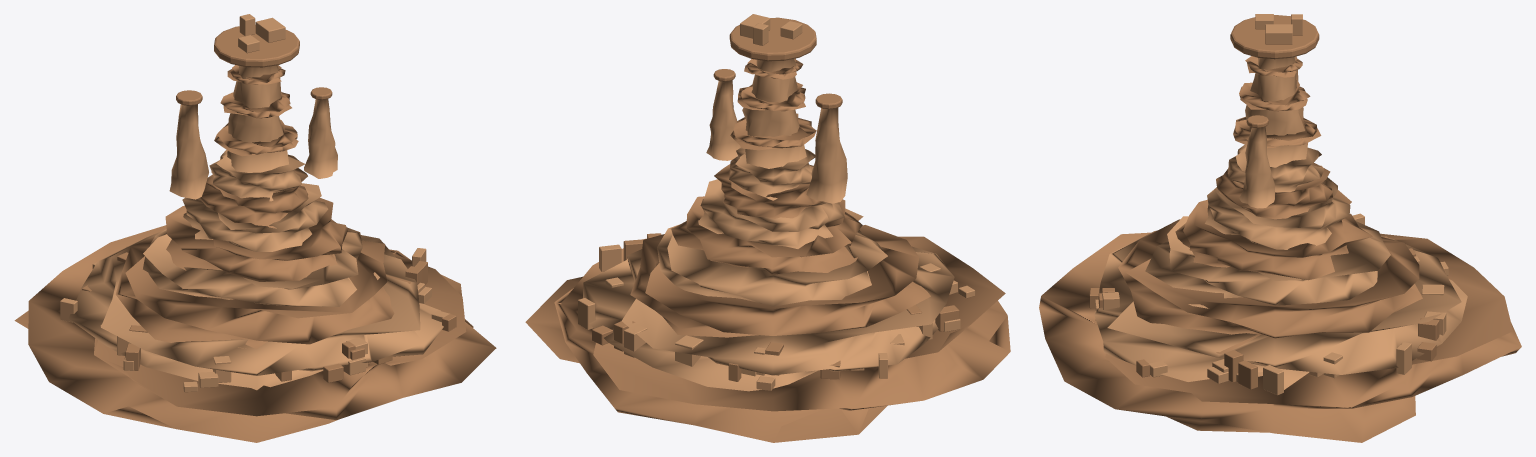
The model's file is temple_spire.glb.
3 views of the same model, side by side, from view 1: azimuth 30°, elevation 25°; view 2: azimuth 150°, elevation 25°; view 3: azimuth 270°, elevation 25° (orthographic). The views are drawn at different scales.
Visible parts, largest first — view 1: mesa1, mesa2, mesa3, t1, t2, t3, spire, t4, flankL, t5, pad, flankR (+4 smaller); view 2: mesa1, mesa2, mesa3, t1, t2, t3, spire, flankL, t4, t5, pad, flankR (+6 smaller); view 3: mesa1, mesa2, mesa3, t1, t2, t3, spire, t4, pad, flankR, t5, ledge1 (+5 smaller).
Boxes of the visible parts, <box> form: mesa1: <box>14,225,496,442</box>; mesa2: <box>68,229,443,390</box>; mesa3: <box>115,236,410,349</box>; t1: <box>143,227,379,306</box>; t2: <box>165,197,347,281</box>; t3: <box>182,183,328,251</box>; spire: <box>227,65,288,172</box>; t4: <box>199,168,308,228</box>; flankL: <box>169,104,208,199</box>; t5: <box>209,150,305,201</box>; pad: <box>214,25,299,67</box>; flankR: <box>304,99,337,178</box>; mesa1: <box>525,236,1010,442</box>; mesa2: <box>583,246,954,391</box>; mesa3: <box>630,225,930,337</box>; t1: <box>657,208,887,306</box>; t2: <box>671,196,862,274</box>; t3: <box>698,179,844,248</box>; spire: <box>742,59,806,168</box>; flankL: <box>806,107,847,203</box>; t4: <box>714,164,823,218</box>; t5: <box>729,147,815,200</box>; pad: <box>729,17,816,61</box>; flankR: <box>706,80,741,160</box>; mesa1: <box>1039,232,1521,442</box>; mesa2: <box>1094,230,1467,389</box>; mesa3: <box>1118,219,1422,354</box>; t1: <box>1145,216,1390,308</box>; t2: <box>1175,190,1372,280</box>; t3: <box>1205,177,1350,249</box>; spire: <box>1245,57,1307,167</box>; t4: <box>1211,163,1332,219</box>; pad: <box>1230,15,1319,59</box>; flankR: <box>1239,127,1274,208</box>; t5: <box>1228,144,1324,192</box>; ledge1: <box>1233,114,1321,148</box>.
Bounding box in the file's own units: 57.01 × 42.45 × 56.53.
